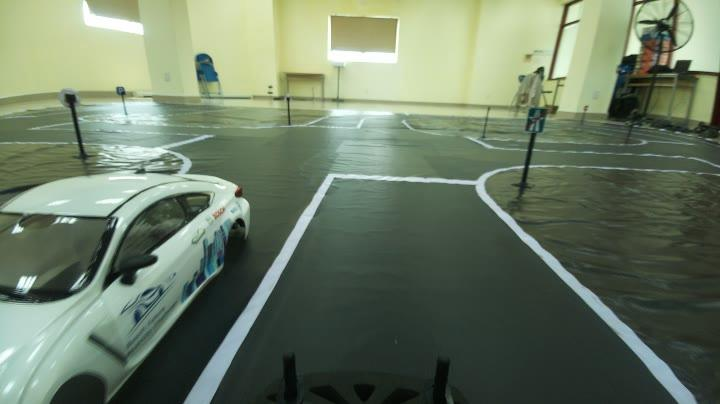car: (1, 148, 208, 396)
highway_exit: (514, 97, 552, 144)
